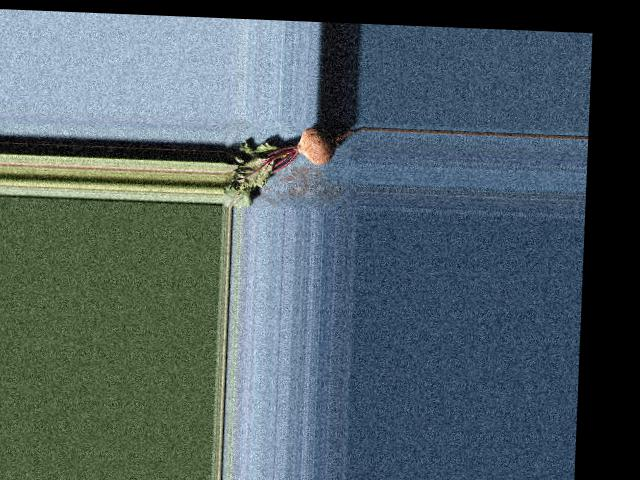beet: (221, 121, 361, 212)
